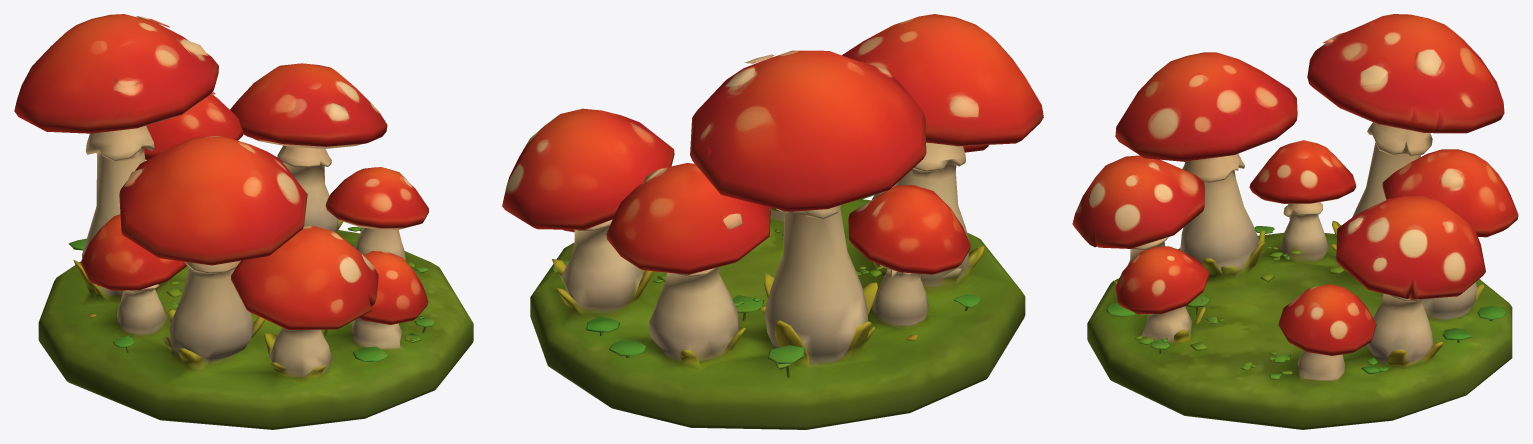
The model's file is tripo_raw.glb.
3 renders of one model, left to right at view 1: azimuth 30°, elevation 25°; view 2: azimuth 150°, elevation 25°; view 3: azimuth 270°, elevation 25°, orthographic. The views are drawn at different scales.
Visible parts, largest first — view 1: tripo_node_719564ae-8a19-4bbe-a9b1-387172c1f692; view 2: tripo_node_719564ae-8a19-4bbe-a9b1-387172c1f692; view 3: tripo_node_719564ae-8a19-4bbe-a9b1-387172c1f692.
Part boxes in pixels (box(x1,y1,x2,y2)): tripo_node_719564ae-8a19-4bbe-a9b1-387172c1f692: box(14, 14, 473, 429); tripo_node_719564ae-8a19-4bbe-a9b1-387172c1f692: box(502, 14, 1043, 429); tripo_node_719564ae-8a19-4bbe-a9b1-387172c1f692: box(1072, 14, 1518, 429).
Size of the model in its own units: 0.9256 by 0.6967 by 0.9961.
1 material, 1 textured.
